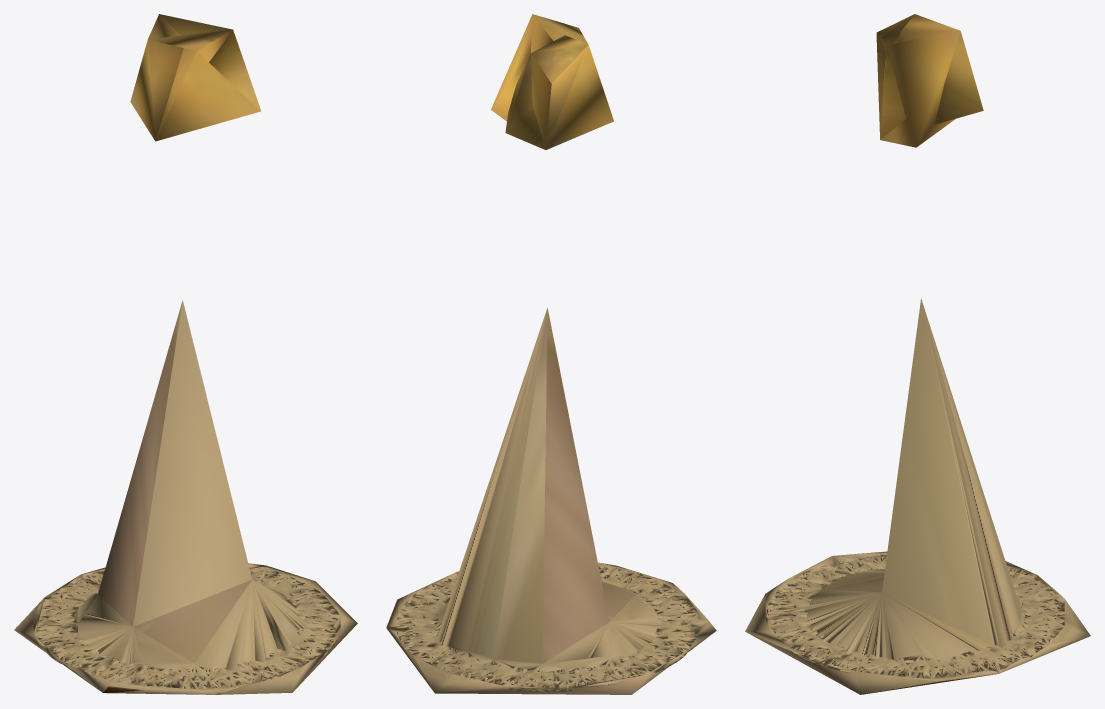
File: hightop.glb
3 renders of one model, left to right at view 1: azimuth 30°, elevation 25°; view 2: azimuth 150°, elevation 25°; view 3: azimuth 270°, elevation 25°, orthographic. The views are drawn at different scales.
Parts seen in each view (by area): view 1: Mesh_0; view 2: Mesh_0; view 3: Mesh_0.
Boxes of the visible parts, <box> form: Mesh_0: <box>14,14,357,694</box>; Mesh_0: <box>386,14,716,694</box>; Mesh_0: <box>745,14,1090,694</box>.
Bounding box in the file's own units: 0.543 × 1.15 × 0.604.
Materials: 1 (1 with a texture image).
